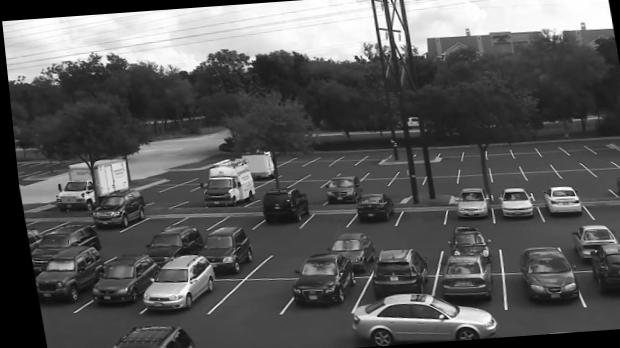empty: (200, 276, 287, 314), (256, 245, 303, 271), (388, 207, 442, 228), (497, 230, 548, 251), (168, 212, 221, 231), (389, 235, 431, 256), (120, 215, 175, 231), (300, 211, 348, 229), (92, 239, 134, 258), (579, 200, 620, 219), (212, 210, 256, 225), (569, 181, 607, 198), (160, 178, 204, 192), (485, 172, 524, 187), (518, 169, 556, 183), (515, 159, 549, 173), (552, 168, 590, 180), (581, 142, 619, 154), (21, 220, 61, 231), (393, 166, 428, 178), (455, 173, 487, 186), (381, 177, 422, 187), (356, 151, 387, 164), (418, 176, 458, 186), (584, 166, 620, 177), (294, 190, 322, 204), (362, 165, 397, 176), (456, 149, 485, 162), (575, 156, 610, 166), (285, 181, 323, 190), (482, 147, 510, 159), (433, 150, 461, 162), (328, 155, 358, 166), (530, 178, 559, 189), (560, 144, 586, 156), (453, 165, 487, 174), (301, 167, 335, 176), (253, 180, 291, 188), (424, 164, 454, 174), (484, 163, 517, 172), (335, 167, 367, 176), (546, 159, 577, 168), (377, 190, 400, 202), (278, 157, 308, 166), (272, 169, 305, 177), (509, 147, 533, 158), (357, 177, 389, 185), (535, 148, 561, 157), (304, 157, 332, 165)
occupied: (137, 252, 219, 313), (82, 253, 156, 307), (29, 246, 99, 303), (285, 252, 353, 305), (362, 247, 426, 302), (511, 245, 571, 302), (139, 225, 204, 266), (83, 189, 141, 233), (434, 251, 485, 301), (199, 159, 252, 207), (195, 227, 248, 273), (579, 241, 620, 297), (258, 189, 307, 233), (26, 224, 93, 255), (326, 232, 369, 274), (111, 325, 188, 348), (567, 225, 612, 256), (539, 185, 578, 218), (354, 193, 391, 224), (319, 175, 357, 204), (451, 188, 484, 217), (496, 188, 529, 217), (449, 227, 482, 254)
